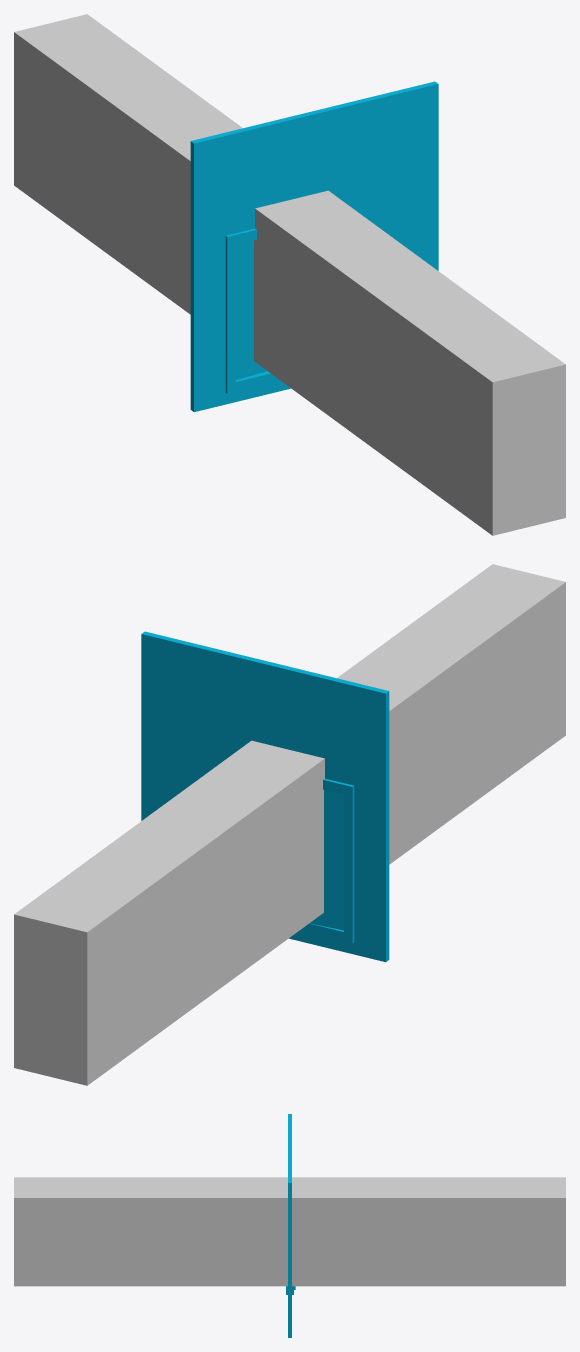
File: Door.fbx
3 renders of one model, top to bottom at view 1: azimuth 30°, elevation 25°; view 2: azimuth 150°, elevation 25°; view 3: azimuth 270°, elevation 25°, orthographic. The views are drawn at different scales.
Visible parts, largest first — view 1: Cube.037, Cube.001, Cube.035, Cube.002; view 2: Cube.037, Cube.001, Cube.035, Cube.002; view 3: Cube.037, Cube.001.
Boxes of the visible parts, box(x1,y1,x2,y2) form: Cube.037: box(14, 14, 565, 535); Cube.001: box(190, 81, 438, 412); Cube.035: box(236, 240, 267, 379); Cube.002: box(225, 228, 280, 393); Cube.037: box(14, 564, 565, 1085); Cube.001: box(141, 631, 389, 962); Cube.035: box(309, 790, 343, 930); Cube.002: box(299, 778, 354, 943); Cube.037: box(14, 1177, 565, 1286); Cube.001: box(288, 1114, 291, 1337).
Bounding box in the file's own units: 2000 × 2100 × 6783.
